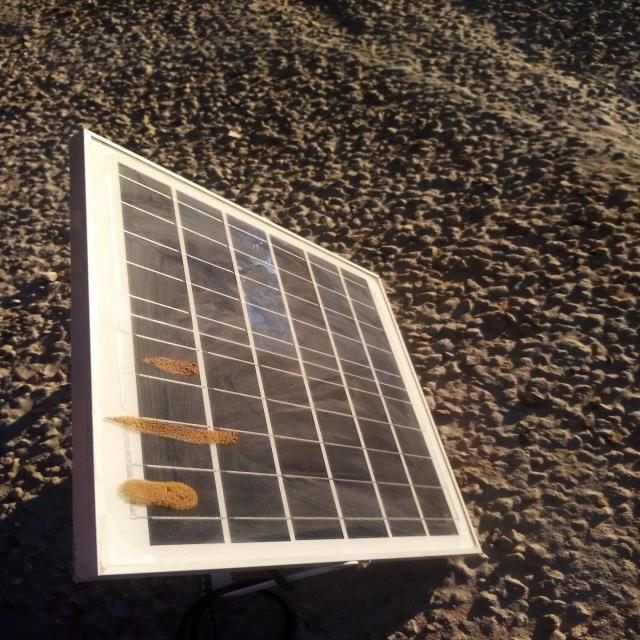faulty: (92, 135, 484, 574)
